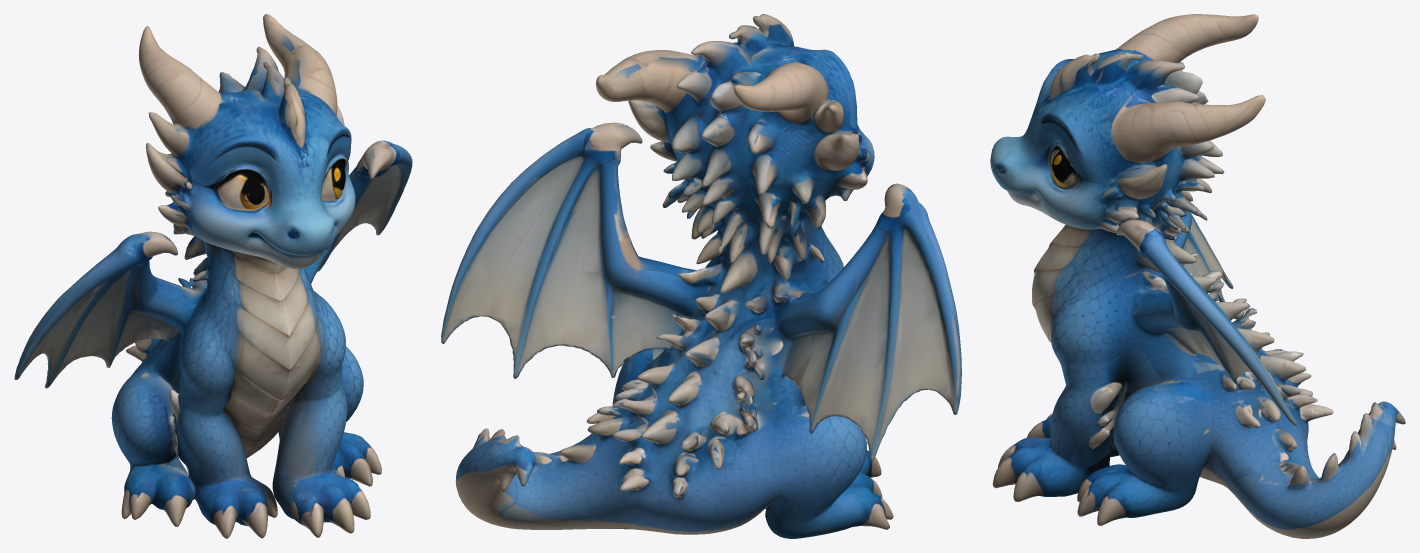
The model's file is comparison-hunyuan-rapid.glb.
3 renders of one model, left to right at view 1: azimuth 30°, elevation 25°; view 2: azimuth 150°, elevation 25°; view 3: azimuth 270°, elevation 25°, orthographic. The views are drawn at different scales.
Visible parts, largest first — view 1: texture_pbr_v128; view 2: texture_pbr_v128; view 3: texture_pbr_v128.
Boxes of the visible parts, x1,y1,x2,y2 form: texture_pbr_v128: [14, 14, 412, 538]; texture_pbr_v128: [441, 14, 961, 538]; texture_pbr_v128: [990, 14, 1405, 538].
Bounding box in the file's own units: 0.9355 × 0.9151 × 0.7863.
Materials: 1 (1 with a texture image).
